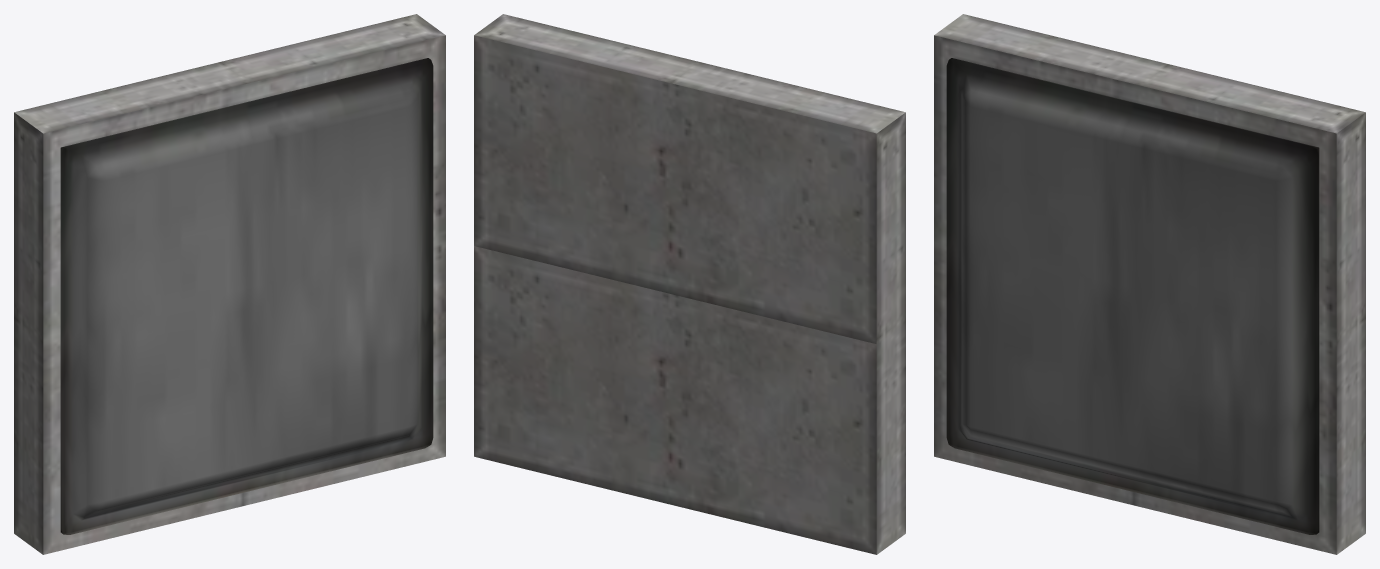
Rendered from backlit_sign_fire_exit_red.glb.
3 renders of one model, left to right at view 1: azimuth 30°, elevation 25°; view 2: azimuth 150°, elevation 25°; view 3: azimuth 330°, elevation 25°, orthographic.
Visible parts, largest first — view 1: backlit_sign_fire_exit_LOD0; view 2: backlit_sign_fire_exit_LOD0; view 3: backlit_sign_fire_exit_LOD0.
Boxes of the visible parts, x1,y1,x2,y2 form: backlit_sign_fire_exit_LOD0: (14,14,445,554); backlit_sign_fire_exit_LOD0: (474,14,905,554); backlit_sign_fire_exit_LOD0: (934,14,1365,554).
Size of the model in its own units: 0.5 by 0.5 by 0.0886.
Materials: 1 (1 with a texture image).
